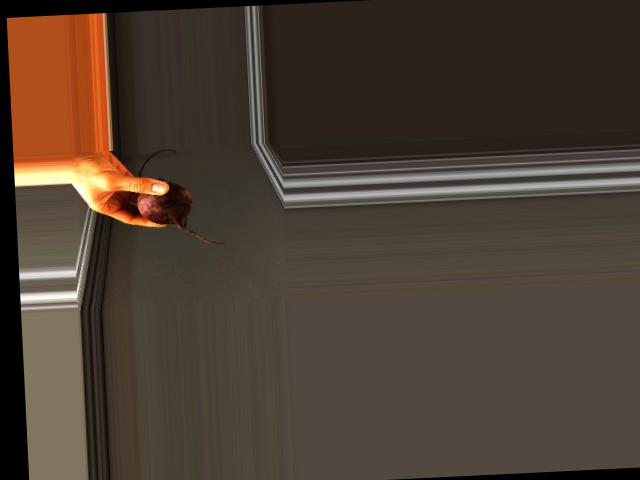beet: (135, 145, 228, 247)
